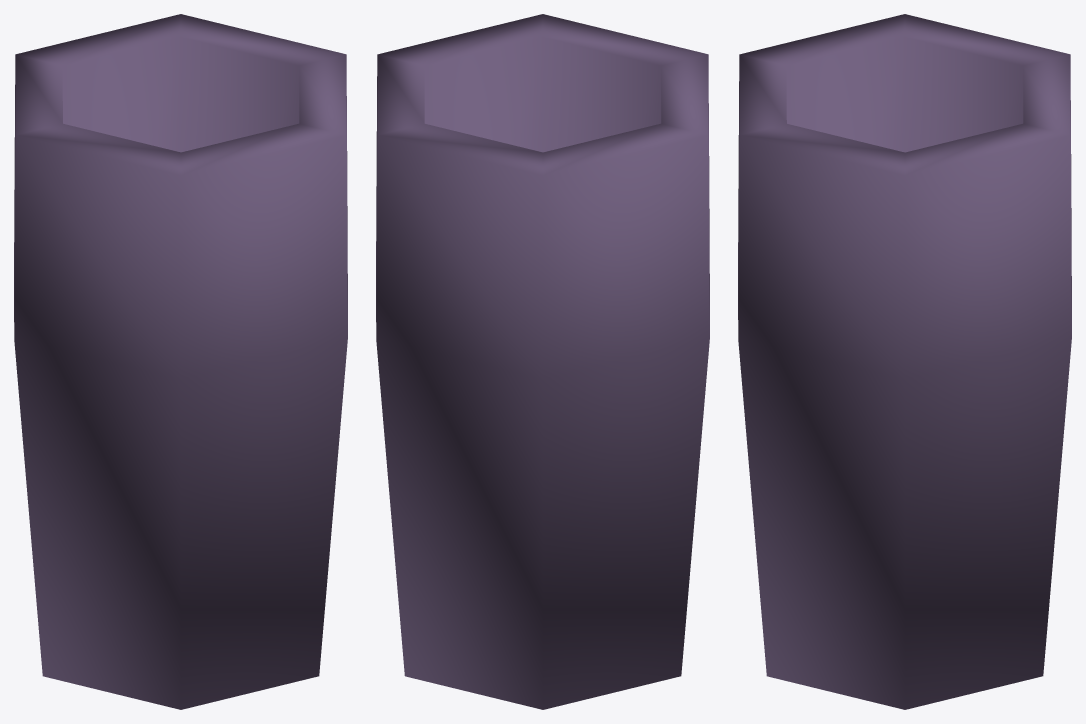
The model's file is glass.fbx.
The picture shows the model from 3 angles, left to right: view 1: azimuth 30°, elevation 25°; view 2: azimuth 150°, elevation 25°; view 3: azimuth 270°, elevation 25°; orthographic projection.
Visible parts, largest first — view 1: Cylinder; view 2: Cylinder; view 3: Cylinder.
Part boxes in pixels (box(x1,y1,x2,y2)): Cylinder: box(14, 14, 347, 709); Cylinder: box(376, 14, 709, 709); Cylinder: box(738, 14, 1071, 709).
Bounding box in the file's own units: 11.49 × 18.02 × 9.95.
1 material, 1 textured.
